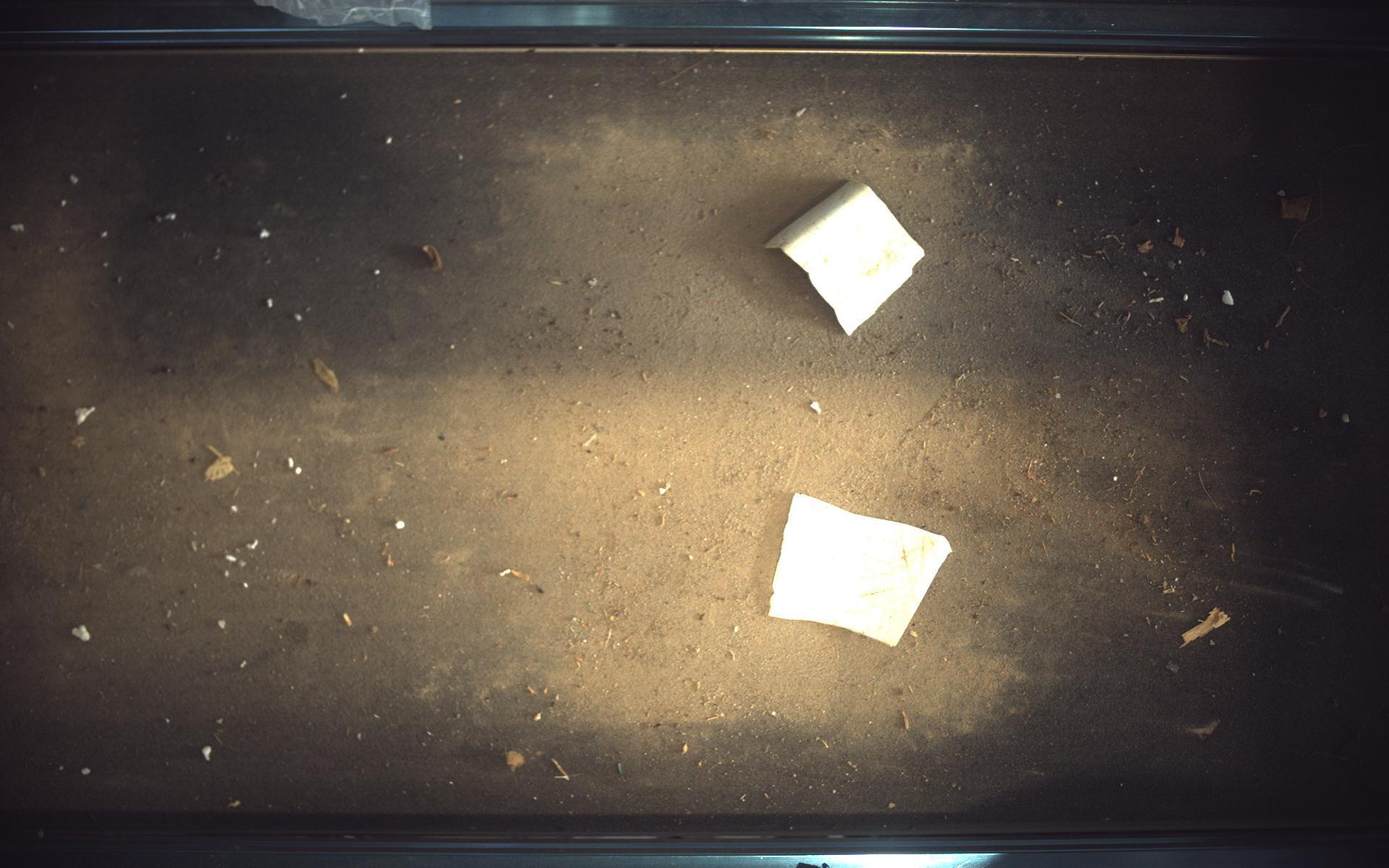plastic: (770, 494, 953, 647), (767, 180, 926, 335)
